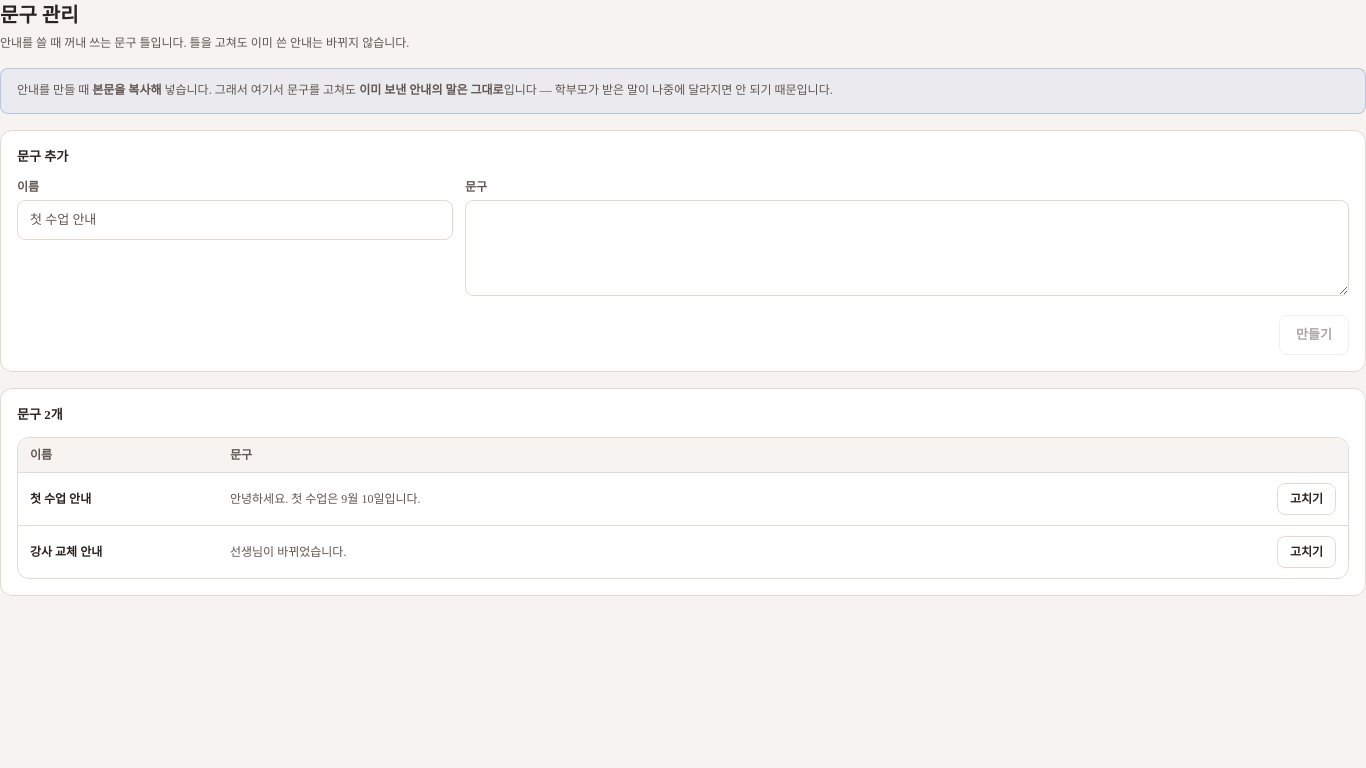
Test: 고치기는 이름과 문구를 그 자리에 채워 연다
Expected: the text "첫 수업 안내" is shown, x1=30 y1=492 x2=91 y2=506
Click the button "고치기" in the row of "첫 수업 안내" at (1306, 498), box x1=1277 y1=482 x2=1336 y2=514
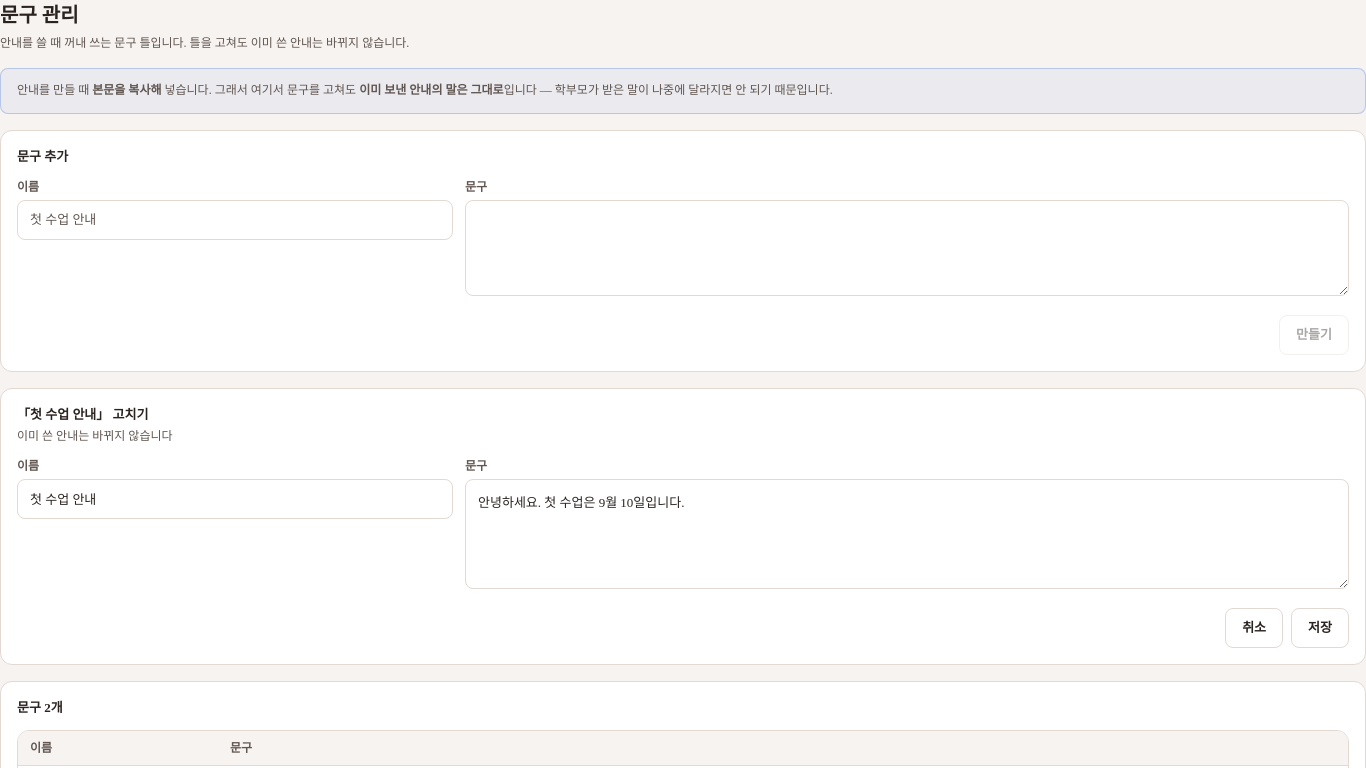
Now the field with id "e-name" holds "첫 수업 안내", box x1=17 y1=478 x2=453 y2=518
Now the text box with id "e-body" holds "안녕하세요. 첫 수업은 9월 10일입니다.", box x1=465 y1=478 x2=1349 y2=589
